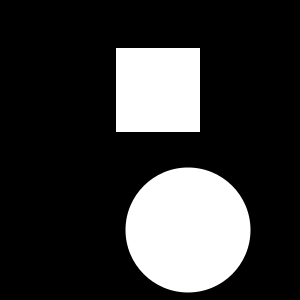circle: (116, 48, 200, 132)
rectangle: (126, 168, 251, 292)
